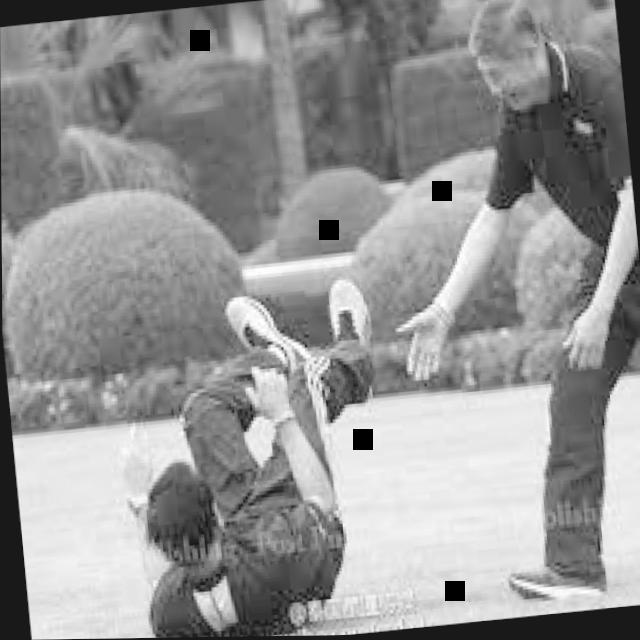Fall-Detected: (74, 237, 401, 639)
